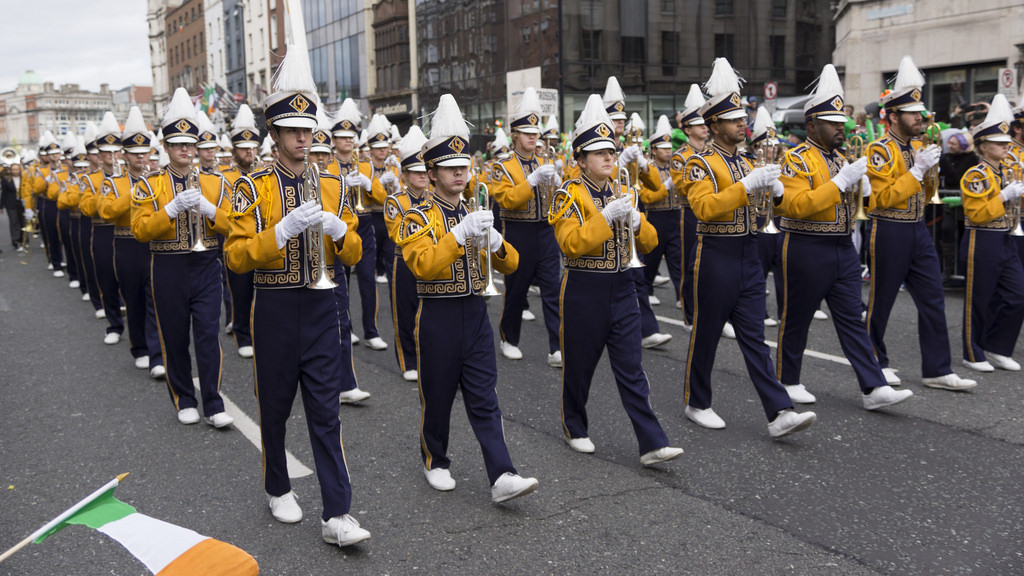feet: (258, 467, 373, 551), (410, 434, 538, 508), (676, 389, 817, 445), (770, 366, 913, 416), (555, 422, 689, 468), (870, 352, 981, 405), (496, 326, 572, 374), (169, 394, 235, 432), (960, 347, 1019, 377), (127, 343, 170, 380), (97, 317, 147, 347), (346, 319, 389, 351)
